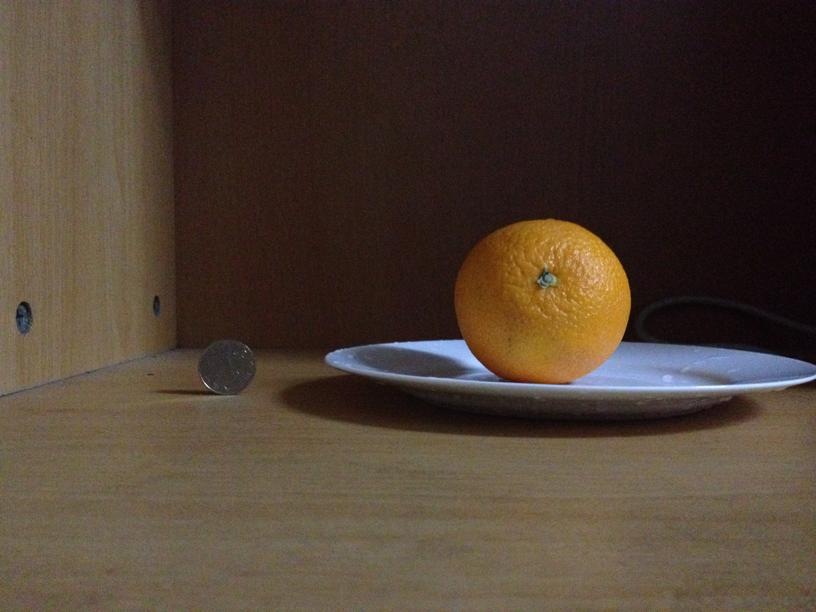coin: (197, 339, 257, 393)
orange: (456, 216, 630, 381)
